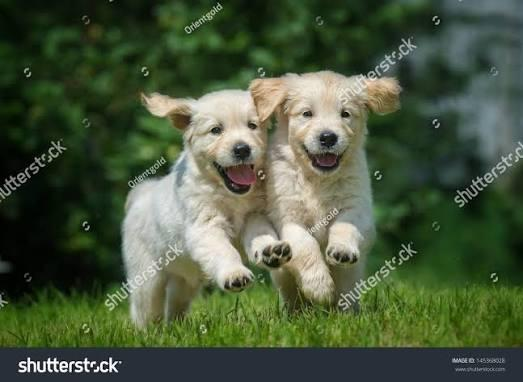puppy-dog: (249, 67, 403, 314), (123, 90, 279, 333)
